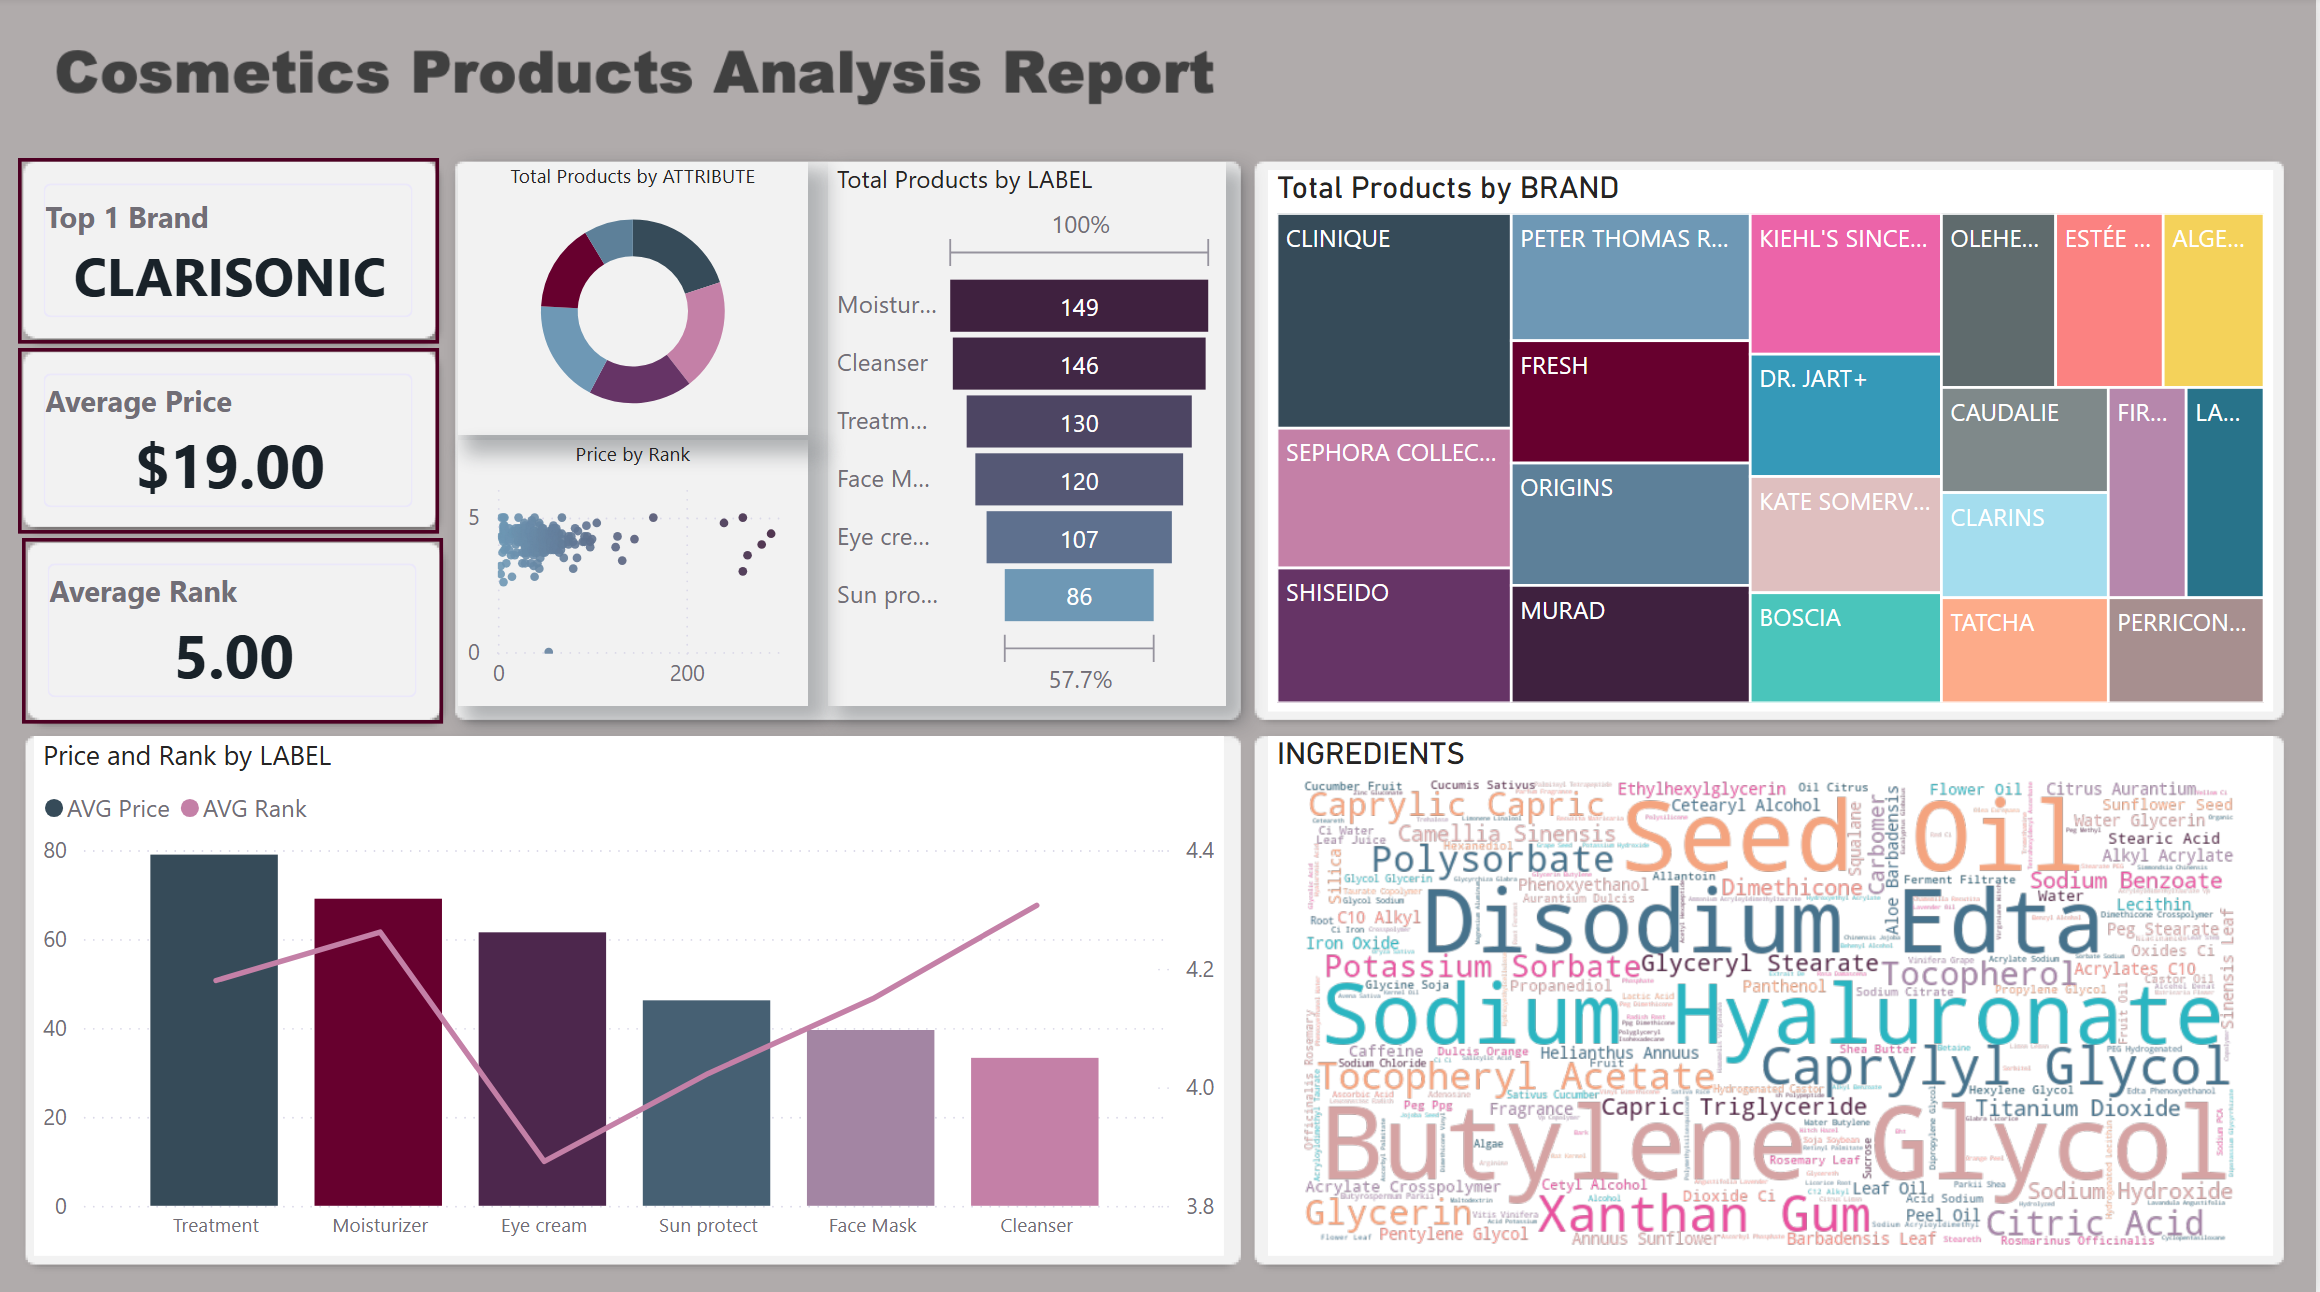

The dashboard page shown, as its layout file describes it:
{"tool":"powerbi","page":{"name":"Page 1","canvas":[1280,720],"ordinal":0},"visuals":[{"type":"donutChart","title":"Total Products by ATTRIBUTE","fields":{"Category":["DIM_ATTRIBUTE_GL.ATTRIBUTE"],"Y":["Measure Table.Total Products2"]},"box":[254.5,92.1,193.1,150.9],"z":0},{"type":"scatterChart","title":"Price by Rank","fields":{"X":["FACT_COSMETICS_GL.PRICE"],"Y":["FACT_COSMETICS_GL.RANK"]},"box":[254.5,245.5,193.1,147.1],"z":1000},{"type":"funnel","fields":{"Y":["Measure Table.Total Products"],"Category":["DIM_LABEL_GL.LABEL"]},"box":[457.8,92.1,219.9,300.5],"z":2000},{"type":"treemap","fields":{"Group":["DIM_BRAND_GL.BRAND"],"Values":["Measure Table.Total Products"]},"box":[700.7,95.9,555,299.2],"z":3000},{"type":"lineClusteredColumnComboChart","title":"Price and Rank by LABEL","fields":{"Category":["FACT_COSMETICS_GL.LABEL"],"Y":["Measure Table.AVG Price"],"Y2":["Measure Table.AVG Rank"]},"box":[20.3,409,657.2,287.2],"z":4000},{"type":"cardVisual","fields":{"Data":["Min(DIM_BRAND_GL.BRAND)"]},"box":[11,89,232.7,102.3],"z":5000},{"type":"cardVisual","fields":{"Data":["Measure Table.AVG Price"]},"box":[11,194,232.7,102.3],"z":6000},{"type":"cardVisual","fields":{"Data":["Measure Table.AVG Rank"]},"box":[13,299,232.7,102.3],"z":7000},{"type":"pythonVisual","fields":{"Values":["FACT_COSMETICS_GL.INGREDIENTS"]},"box":[701,409,555,287],"z":8000}]}

Visuals, with their boxes in screenshot pixels (x1, y1, x2, y2), scaled from the page's 1280x720 canvas onto the 2320x1292 screenshot:
"Total Products by ATTRIBUTE" donutChart: box=[461, 165, 811, 436]
"Price by Rank" scatterChart: box=[461, 441, 811, 704]
funnel - Measure Table.Total Products x DIM_LABEL_GL.LABEL: box=[830, 165, 1228, 704]
treemap - DIM_BRAND_GL.BRAND x Measure Table.Total Products: box=[1270, 172, 2276, 709]
"Price and Rank by LABEL" lineClusteredColumnComboChart: box=[37, 734, 1228, 1249]
cardVisual - Min(DIM_BRAND_GL.BRAND): box=[20, 160, 442, 343]
cardVisual - Measure Table.AVG Price: box=[20, 348, 442, 532]
cardVisual - Measure Table.AVG Rank: box=[24, 537, 445, 720]
pythonVisual - FACT_COSMETICS_GL.INGREDIENTS: box=[1271, 734, 2276, 1249]
